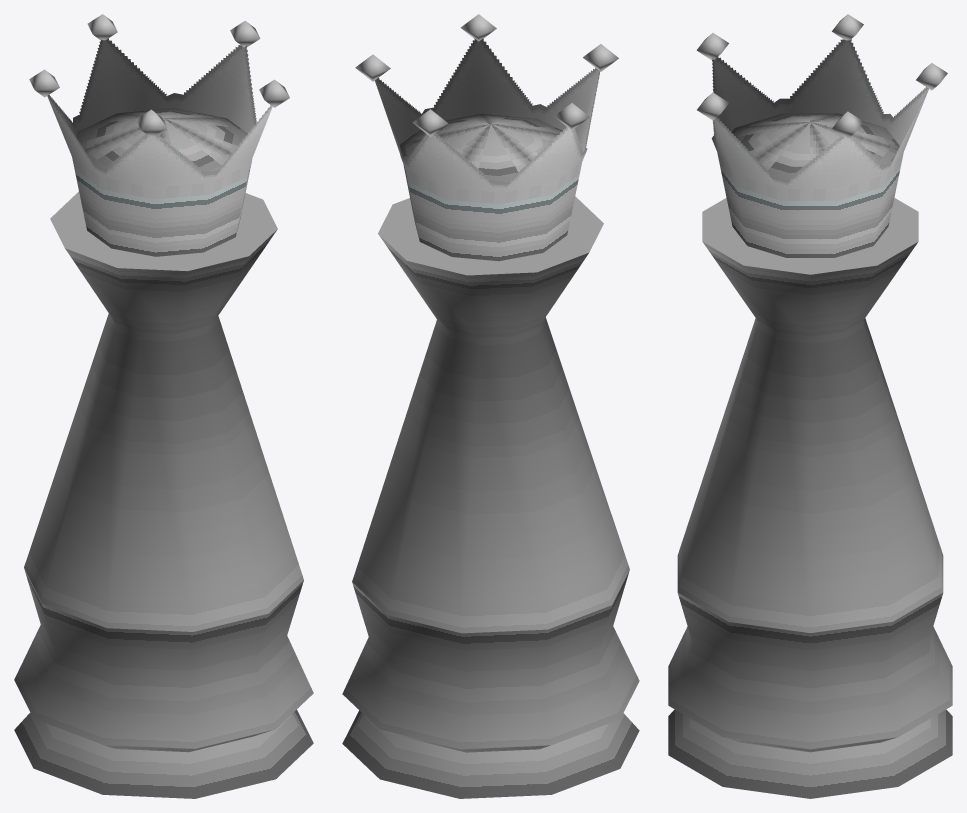
File: rmk_chs_queen_mtl.dae
3 renders of one model, left to right at view 1: azimuth 30°, elevation 25°; view 2: azimuth 150°, elevation 25°; view 3: azimuth 270°, elevation 25°, orthographic.
Parts seen in each view (by area): view 1: rmk_chs_queen_mtl; view 2: rmk_chs_queen_mtl; view 3: rmk_chs_queen_mtl.
Boxes of the visible parts, x1=… form: rmk_chs_queen_mtl: x1=14, y1=14, x2=313, y2=798; rmk_chs_queen_mtl: x1=342, y1=14, x2=639, y2=798; rmk_chs_queen_mtl: x1=668, y1=14, x2=952, y2=798.
Size of the model in its own units: 25.6 by 63.56 by 24.35.
Materials: 1 (1 with a texture image).
